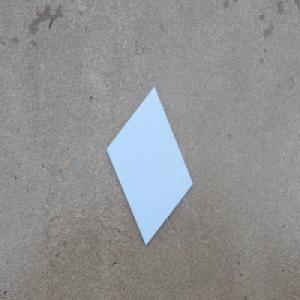PaintChip: (106, 85, 194, 248)
